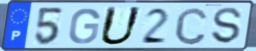2: (137, 8, 173, 45)
5: (33, 5, 66, 47)
C: (172, 6, 209, 47)
G: (67, 7, 102, 45)
S: (211, 7, 244, 46)
U: (97, 5, 144, 47)
